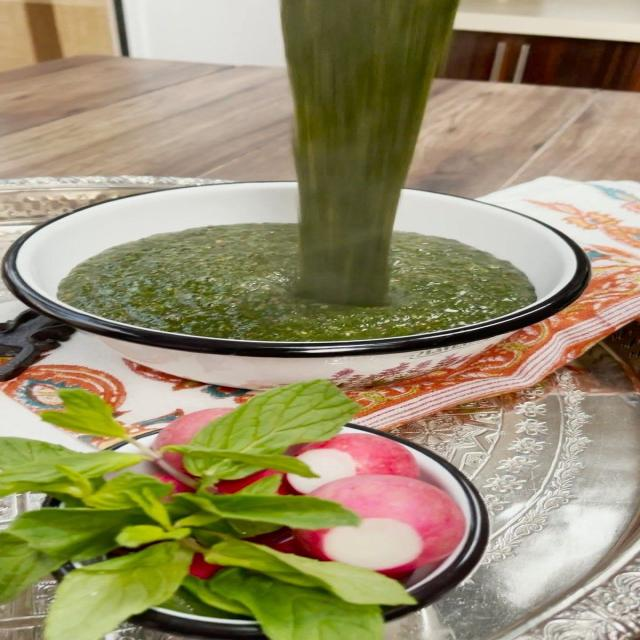Molokhya: (0, 77, 640, 372)
